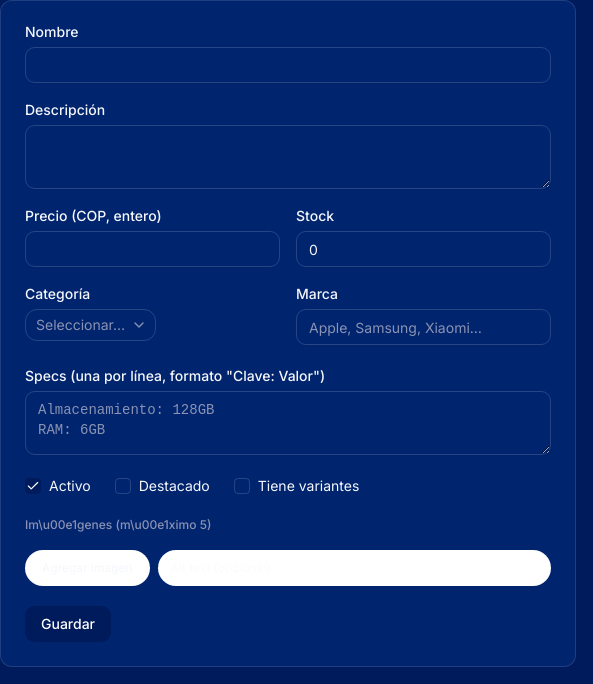
Test: ProductoForm › muestra las categorías disponibles en el select
Click the dropdown at {"x": 91, "y": 325}, box 25,309 -> 156,341
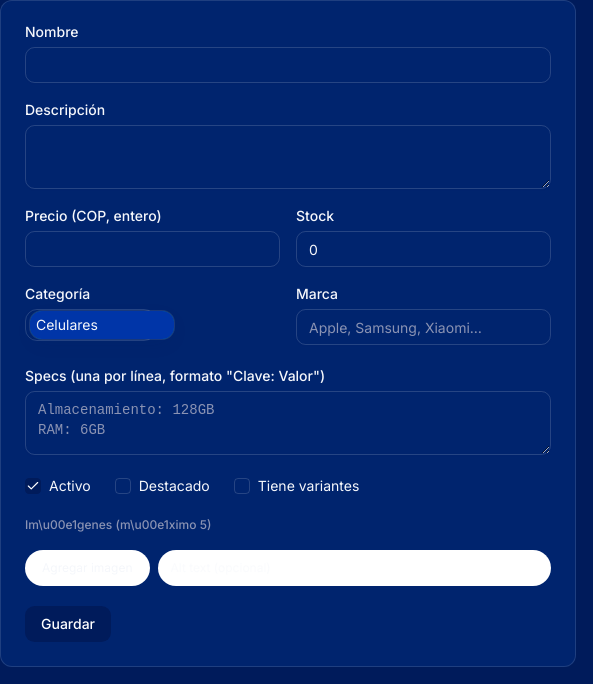
Expected: the option "Celulares" is shown, 30,311 -> 174,339
